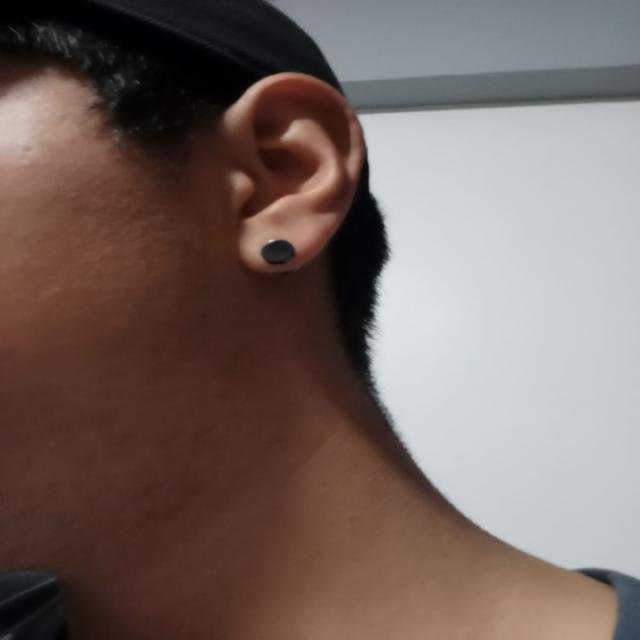ear: (212, 72, 365, 274)
